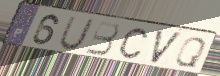6: (31, 13, 61, 47)
B: (84, 20, 121, 57)
C: (117, 27, 149, 60)
Q: (172, 36, 208, 69)
U: (57, 15, 97, 52)
V: (149, 28, 185, 67)
